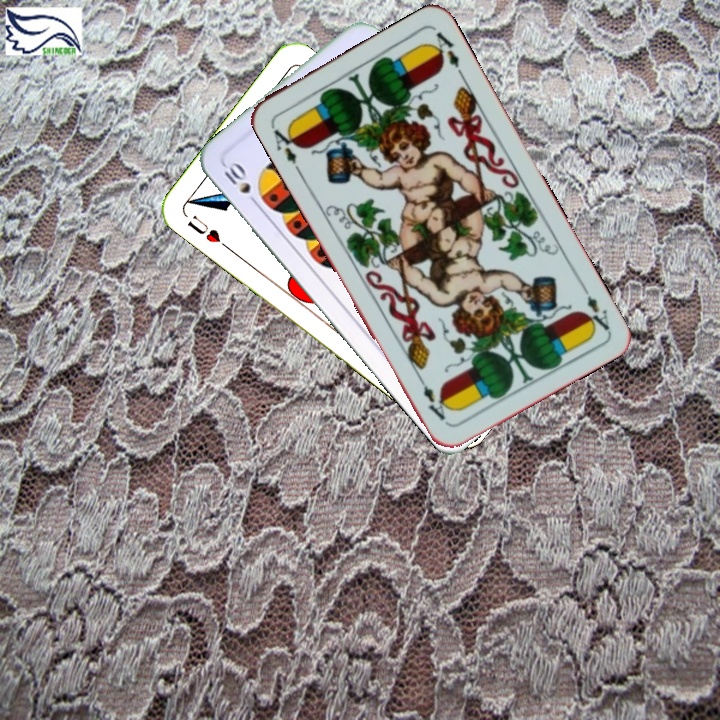EA: (267, 121, 304, 167), (580, 291, 613, 336)
HU: (183, 211, 232, 252)
S10: (219, 157, 262, 210)
